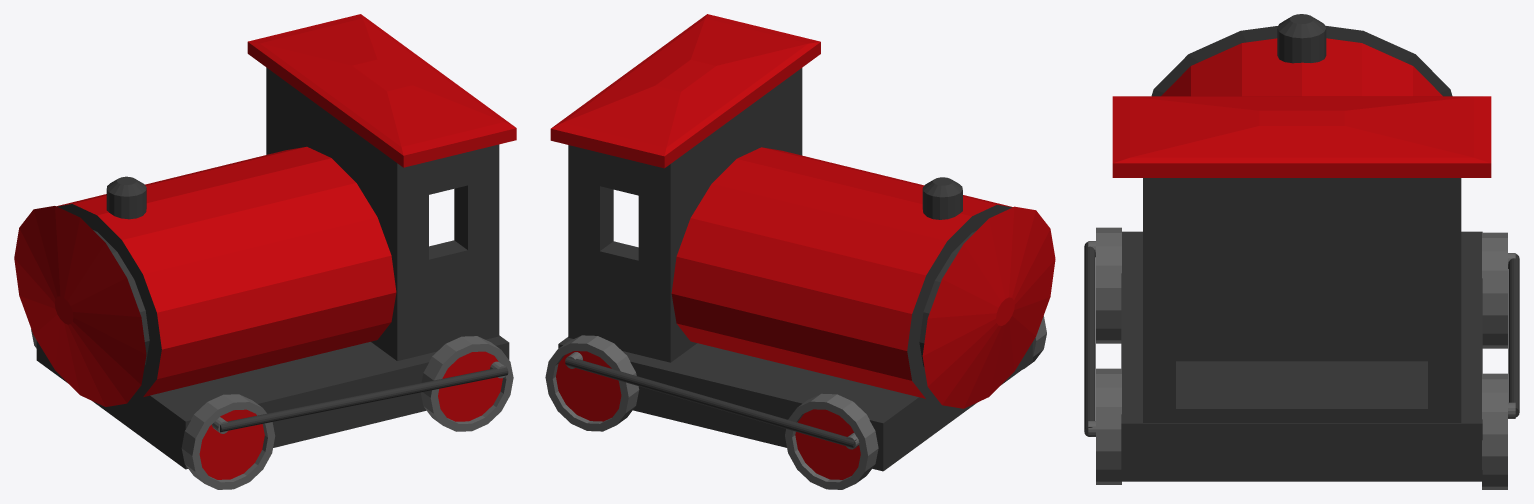
File: train.fbx
3 renders of one model, left to right at view 1: azimuth 30°, elevation 25°; view 2: azimuth 150°, elevation 25°; view 3: azimuth 270°, elevation 25°, orthographic. The views are drawn at different scales.
Visible parts, largest first — view 1: Train-Body, Wheel-Front-Left, Wheel-Back-Left, Wheel-Bar-Left; view 2: Train-Body, Wheel-Front-Right, Wheel-Back-Right, Wheel-Bar-Right; view 3: Train-Body, Wheel-Back-Right, Wheel-Back-Left, Wheel-Front-Left, Wheel-Front-Right, Wheel-Bar-Left, Wheel-Bar-Right.
Boxes of the visible parts, <box> form: Train-Body: <box>14,14,516,469</box>; Wheel-Front-Left: <box>181,394,275,489</box>; Wheel-Back-Left: <box>421,336,513,431</box>; Wheel-Bar-Left: <box>220,367,508,432</box>; Train-Body: <box>550,14,1055,471</box>; Wheel-Front-Right: <box>785,393,878,489</box>; Wheel-Back-Right: <box>545,335,639,431</box>; Wheel-Bar-Right: <box>565,357,856,448</box>; Train-Body: <box>1112,14,1491,481</box>; Wheel-Back-Right: <box>1482,373,1515,489</box>; Wheel-Back-Left: <box>1088,368,1121,484</box>; Wheel-Front-Left: <box>1088,227,1121,343</box>; Wheel-Front-Right: <box>1482,232,1515,348</box>; Wheel-Bar-Left: <box>1084,242,1095,436</box>; Wheel-Bar-Right: <box>1508,254,1519,417</box>.
Bounding box in the file's own units: 103 × 77.52 × 85.35.
